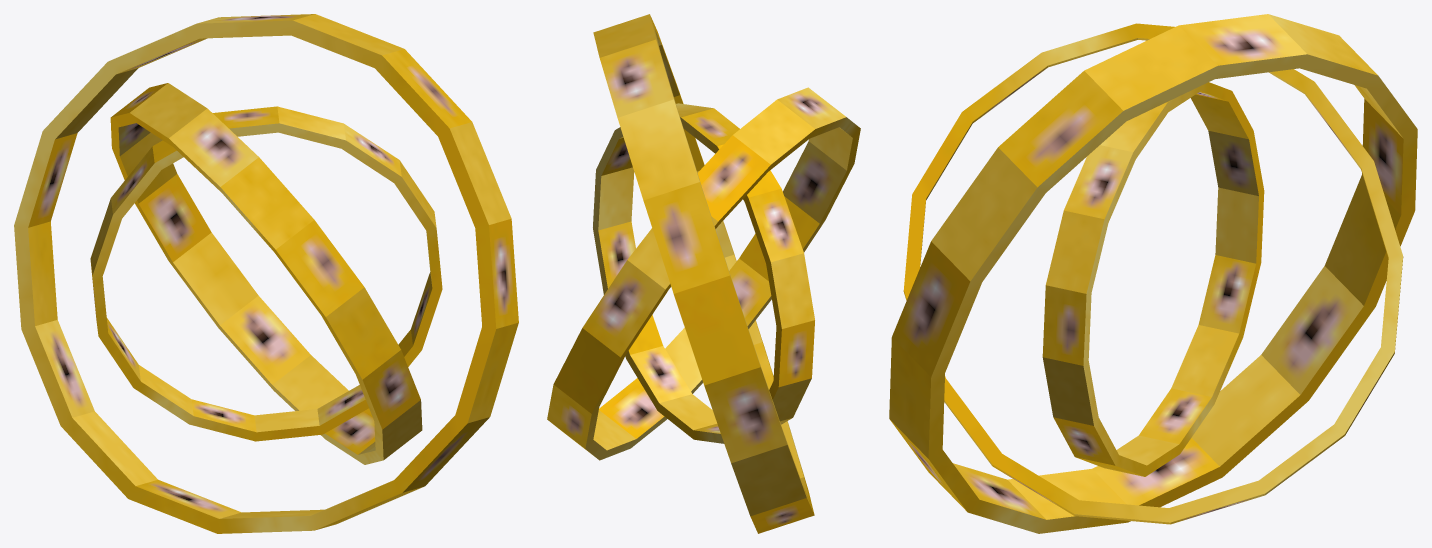
File: Biblically_Accurate_Angel.fbx
The picture shows the model from 3 angles, left to right: view 1: azimuth 30°, elevation 25°; view 2: azimuth 150°, elevation 25°; view 3: azimuth 270°, elevation 25°; orthographic projection. The views are drawn at different scales.
Parts seen in each view (by area): view 1: Outer_Ring, Middle_Ring, Inner_Ring; view 2: Outer_Ring, Middle_Ring, Inner_Ring; view 3: Outer_Ring, Inner_Ring, Middle_Ring.
Part boxes in pixels (x1,y1,x2,y2): Outer_Ring: (14, 14, 518, 533); Middle_Ring: (110, 83, 422, 464); Inner_Ring: (90, 106, 442, 441); Outer_Ring: (593, 14, 814, 533); Middle_Ring: (547, 87, 860, 460); Inner_Ring: (593, 103, 814, 443); Outer_Ring: (889, 14, 1417, 533); Inner_Ring: (1042, 82, 1264, 476); Middle_Ring: (903, 23, 1403, 524).
Size of the model in its own units: 152 by 208 by 185.
Materials: 3 (3 with a texture image).
